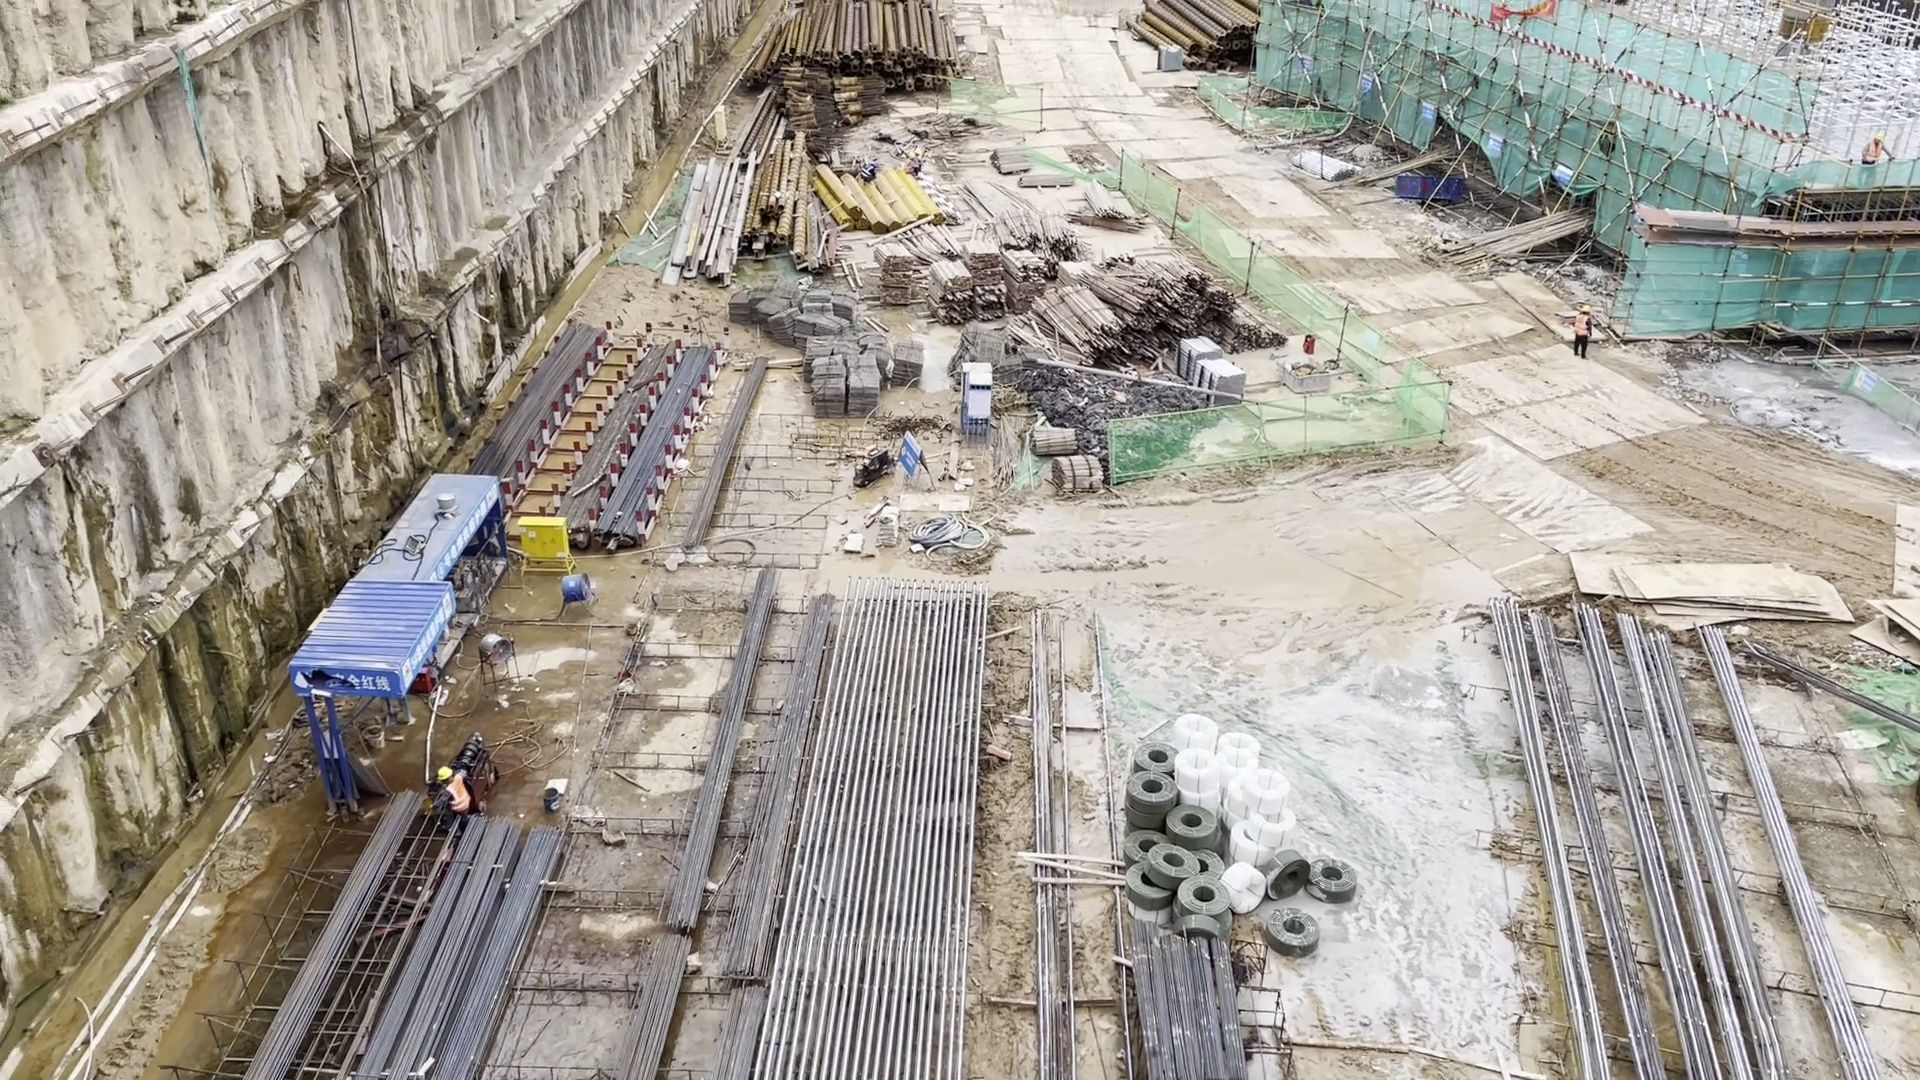board: (1545, 529, 1859, 648)
brick: (1175, 337, 1244, 415)
ebox: (518, 514, 579, 578)
helmet: (437, 767, 452, 781), (1579, 305, 1590, 315)
hopper: (1390, 169, 1473, 204), (1281, 358, 1334, 392)
person: (1852, 125, 1898, 206), (1558, 295, 1600, 365), (433, 763, 473, 814)
rebar: (1515, 632, 1809, 1080), (614, 557, 839, 1080), (251, 813, 552, 1080), (453, 327, 711, 472), (1125, 920, 1256, 1080), (677, 359, 777, 544)
slogan: (433, 489, 510, 587), (401, 595, 455, 685), (301, 665, 394, 704)
vest: (448, 775, 471, 809), (1571, 314, 1592, 342)
wood: (858, 209, 1082, 320), (1018, 252, 1278, 342)
